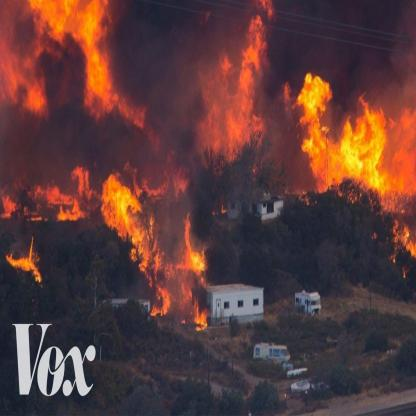fire: (105, 165, 215, 333), (290, 86, 402, 210), (8, 154, 90, 288)
smoke: (134, 12, 224, 116)
